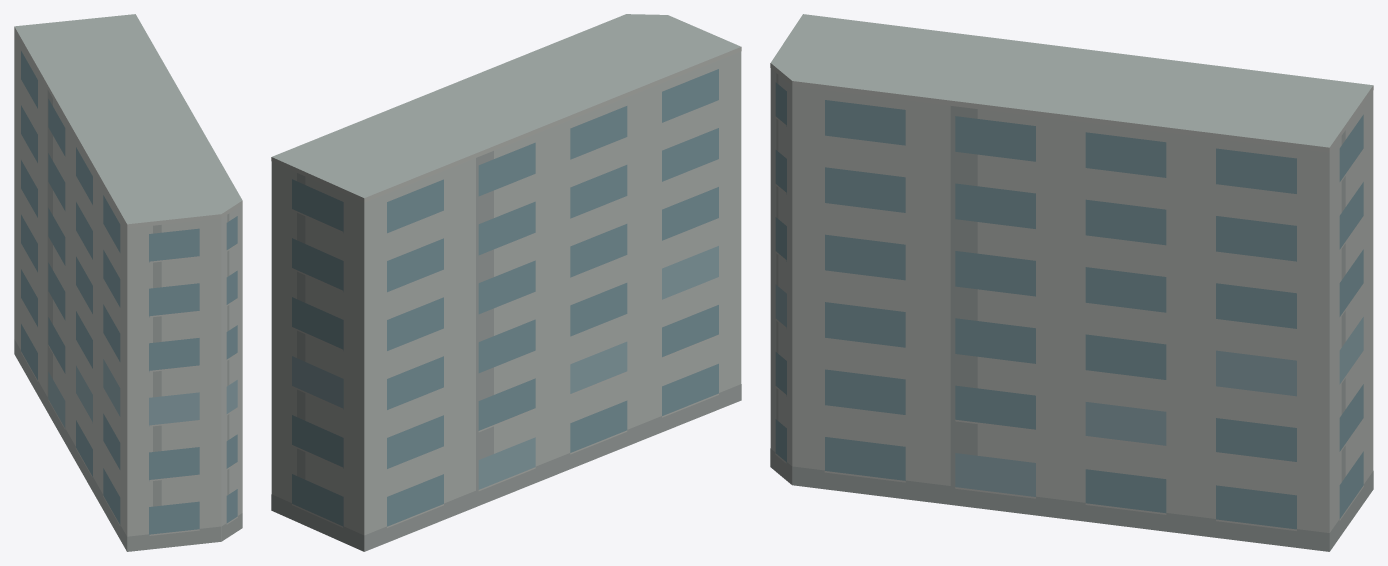
Rendered from survey-upis-32871017.glb.
3 views of the same model, side by side, from view 1: azimuth 30°, elevation 25°; view 2: azimuth 150°, elevation 25°; view 3: azimuth 270°, elevation 25° (orthographic). The views are drawn at different scales.
Parts seen in each view (by area): view 1: survey-upis-32871017.tmp; view 2: survey-upis-32871017.tmp; view 3: survey-upis-32871017.tmp.
Boxes of the visible parts, <box> form: survey-upis-32871017.tmp: <box>14,14,242,551</box>; survey-upis-32871017.tmp: <box>271,14,741,551</box>; survey-upis-32871017.tmp: <box>770,14,1373,551</box>.
Bounding box in the file's own units: 13.48 × 19 × 25.68.
